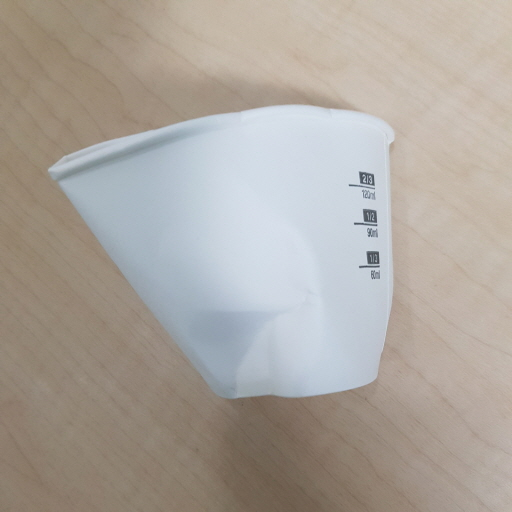Paper_1: (43, 103, 402, 401)
